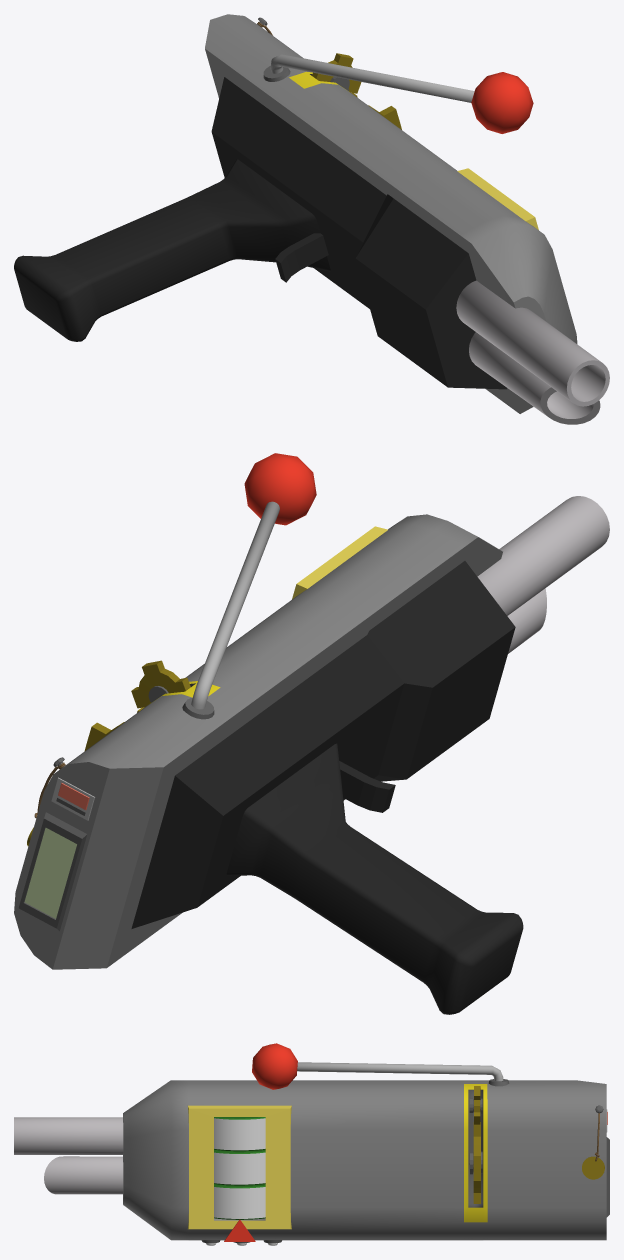
The model's file is rouletteGun.fbx.
The picture shows the model from 3 angles, top to bottom: view 1: azimuth 30°, elevation 25°; view 2: azimuth 150°, elevation 25°; view 3: azimuth 270°, elevation 25°; orthographic projection. The views are drawn at different scales.
Parts seen in each view (by area): view 1: Roulette Gun; view 2: Roulette Gun; view 3: Roulette Gun.
Boxes of the visible parts, x1,y1,x2,y2 form: Roulette Gun: [14, 14, 609, 424]; Roulette Gun: [14, 453, 609, 1014]; Roulette Gun: [14, 1043, 609, 1245].
Bounding box in the file's own units: 27.95 × 53.15 × 20.76.
